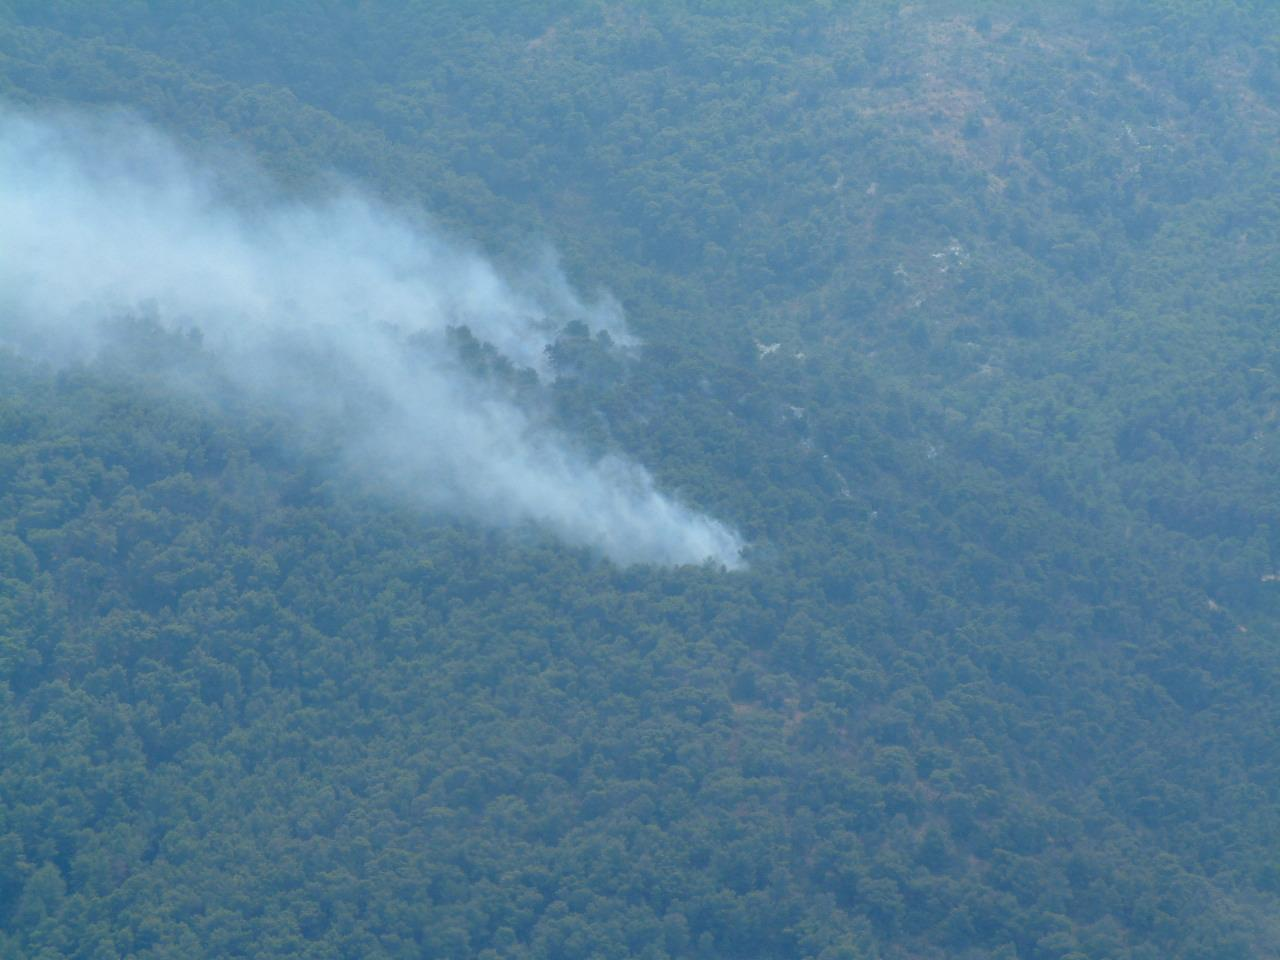Smoke: (2, 103, 749, 576)
